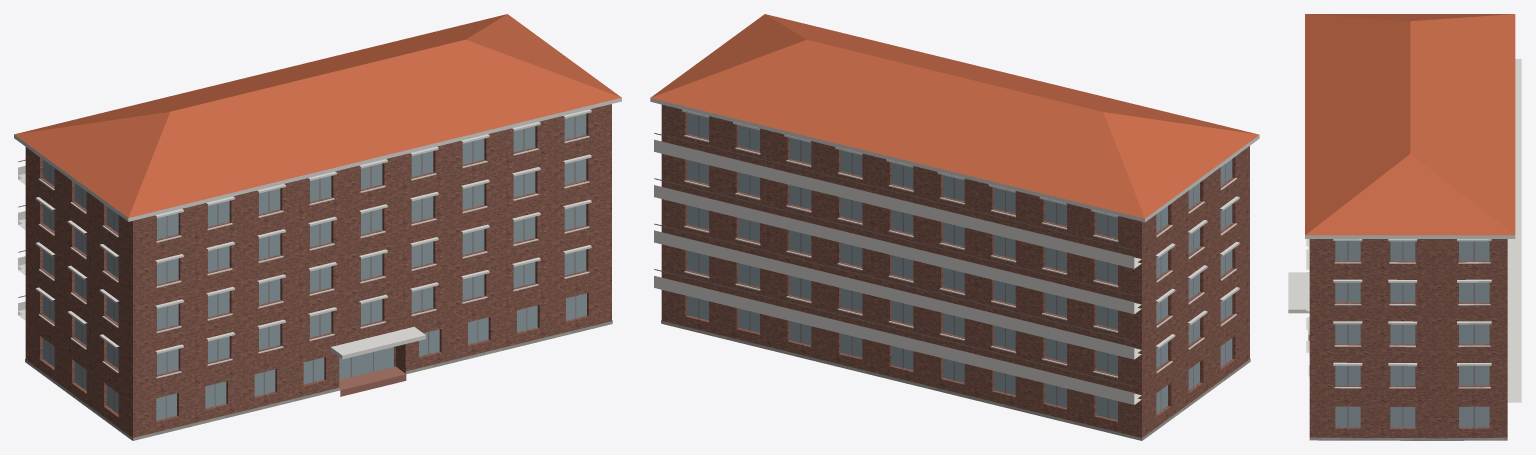
3 views of the same model, side by side, from view 1: azimuth 30°, elevation 25°; view 2: azimuth 150°, elevation 25°; view 3: azimuth 270°, elevation 25° (orthographic). The views are drawn at different scales.
Parts seen in each view (by area): view 1: osm136187759__wall, osm136187759__roofAccent, osm136187759__glass, osm136187759__trim, osm136187759__frame, osm136187759__base, osm136187759__canopy, osm136187759__entranceThreshold_0; view 2: osm136187759__wall, osm136187759__roofAccent, osm136187759__trim, osm136187759__glass, osm136187759__frame, osm136187759__base; view 3: osm136187759__roofAccent, osm136187759__wall, osm136187759__glass, osm136187759__trim, osm136187759__canopy, osm136187759__base, osm136187759__frame.
Part boxes in pixels (<box>): osm136187759__wall: <box>25,104,611,440</box>; osm136187759__roofAccent: <box>14,14,621,217</box>; osm136187759__glass: <box>43,114,586,420</box>; osm136187759__trim: <box>14,98,621,378</box>; osm136187759__frame: <box>18,116,576,418</box>; osm136187759__base: <box>25,320,612,440</box>; osm136187759__canopy: <box>330,326,425,359</box>; osm136187759__entranceThreshold_0: <box>339,366,406,396</box>; osm136187759__wall: <box>661,104,1249,440</box>; osm136187759__roofAccent: <box>650,14,1259,218</box>; osm136187759__trim: <box>650,98,1259,404</box>; osm136187759__glass: <box>687,113,1232,420</box>; osm136187759__frame: <box>654,115,1225,417</box>; osm136187759__base: <box>661,320,1250,440</box>; osm136187759__roofAccent: <box>1305,14,1515,235</box>; osm136187759__wall: <box>1309,239,1507,438</box>; osm136187759__glass: <box>1335,241,1489,427</box>; osm136187759__trim: <box>1305,59,1521,402</box>; osm136187759__canopy: <box>1288,272,1309,313</box>; osm136187759__base: <box>1309,437,1507,440</box>; osm136187759__frame: <box>1347,241,1474,427</box>.
Bounding box in the file's own units: 34.25 × 18.08 × 15.24.
10 materials, 2 textured.
